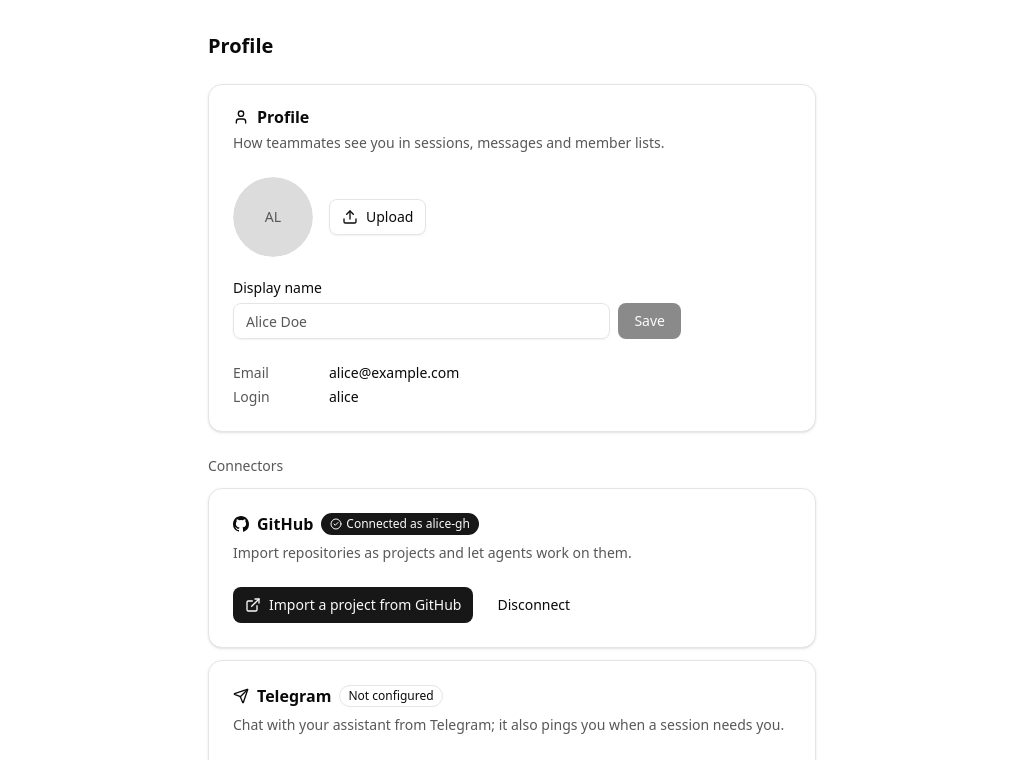
Test case: ProfilePage › saves the display name with PATCH /me/profile and refreshes the user
The image size is (1024, 760).
Expected: the button "Save" is disabled, [618, 303, 681, 339]
Type "  Ali  " into the field labelled "Display name" at (422, 321), box [233, 303, 610, 339]
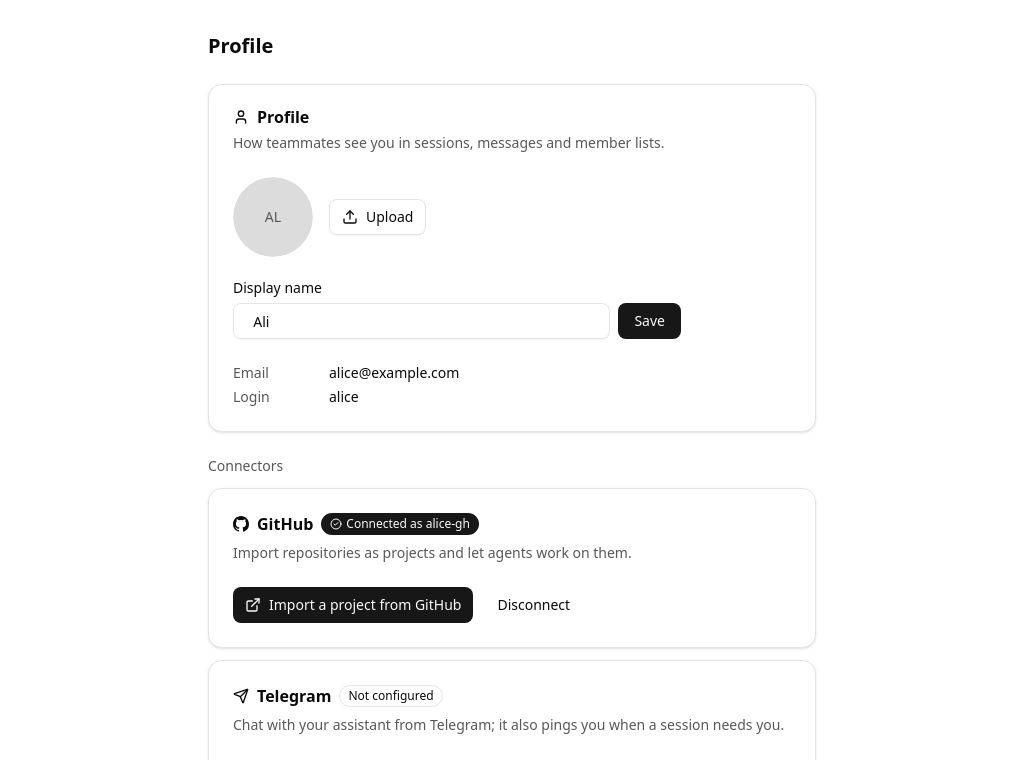
Click the button "Save" at (650, 321), box [618, 303, 681, 339]
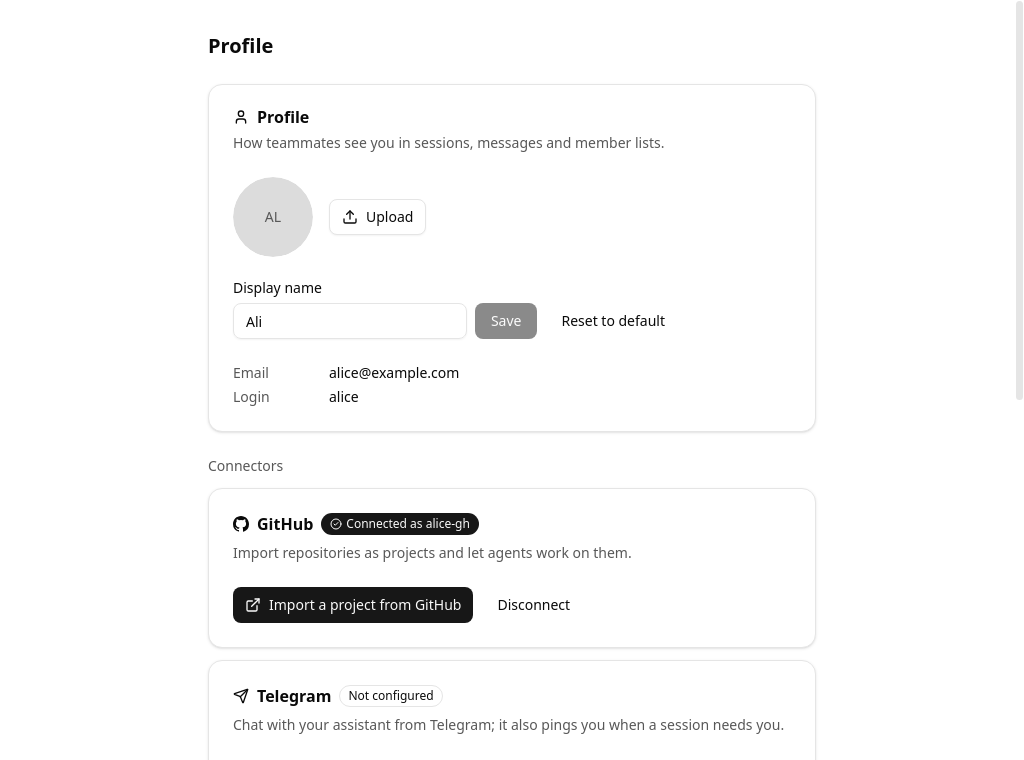
Result: the button "Reset to default" is shown at [545, 303, 681, 339]
